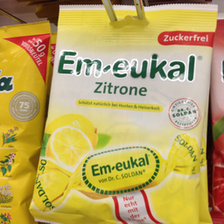candy: (43, 6, 213, 219), (1, 18, 60, 219)
